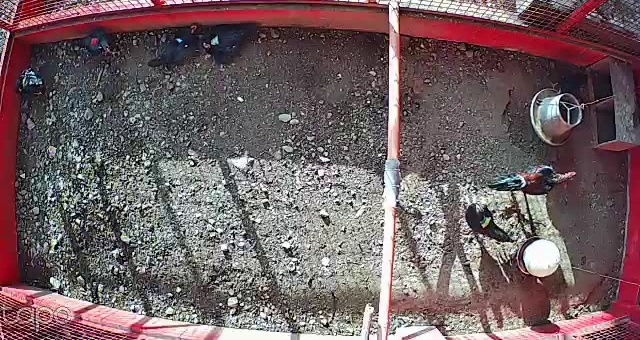Chicken: (142, 19, 202, 71), (459, 197, 515, 244), (202, 22, 260, 65), (66, 24, 126, 65), (543, 67, 597, 109), (15, 63, 54, 99)
Rooster: (483, 160, 581, 203)
Saddle_Color_Blue: (175, 37, 187, 46)
Saddle_Color_Red: (92, 37, 101, 46)
Saddle_Color_YellowGreen: (477, 215, 493, 229)
